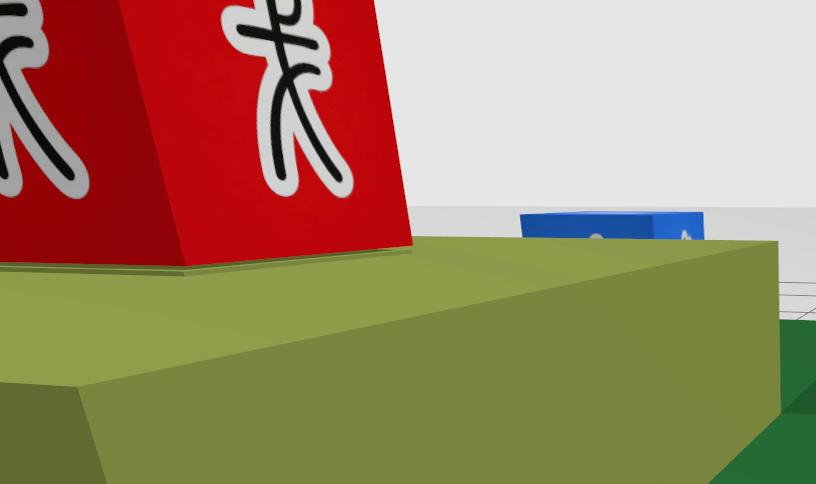KFS_FAKE: (0, 0, 409, 266), (222, 0, 354, 196), (0, 0, 87, 198)
